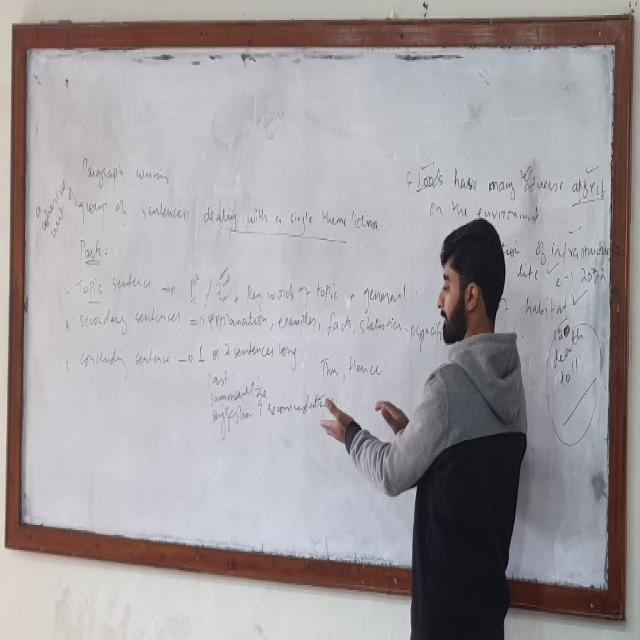Instructor: (395, 210, 531, 640)
White-board: (13, 32, 624, 609)
